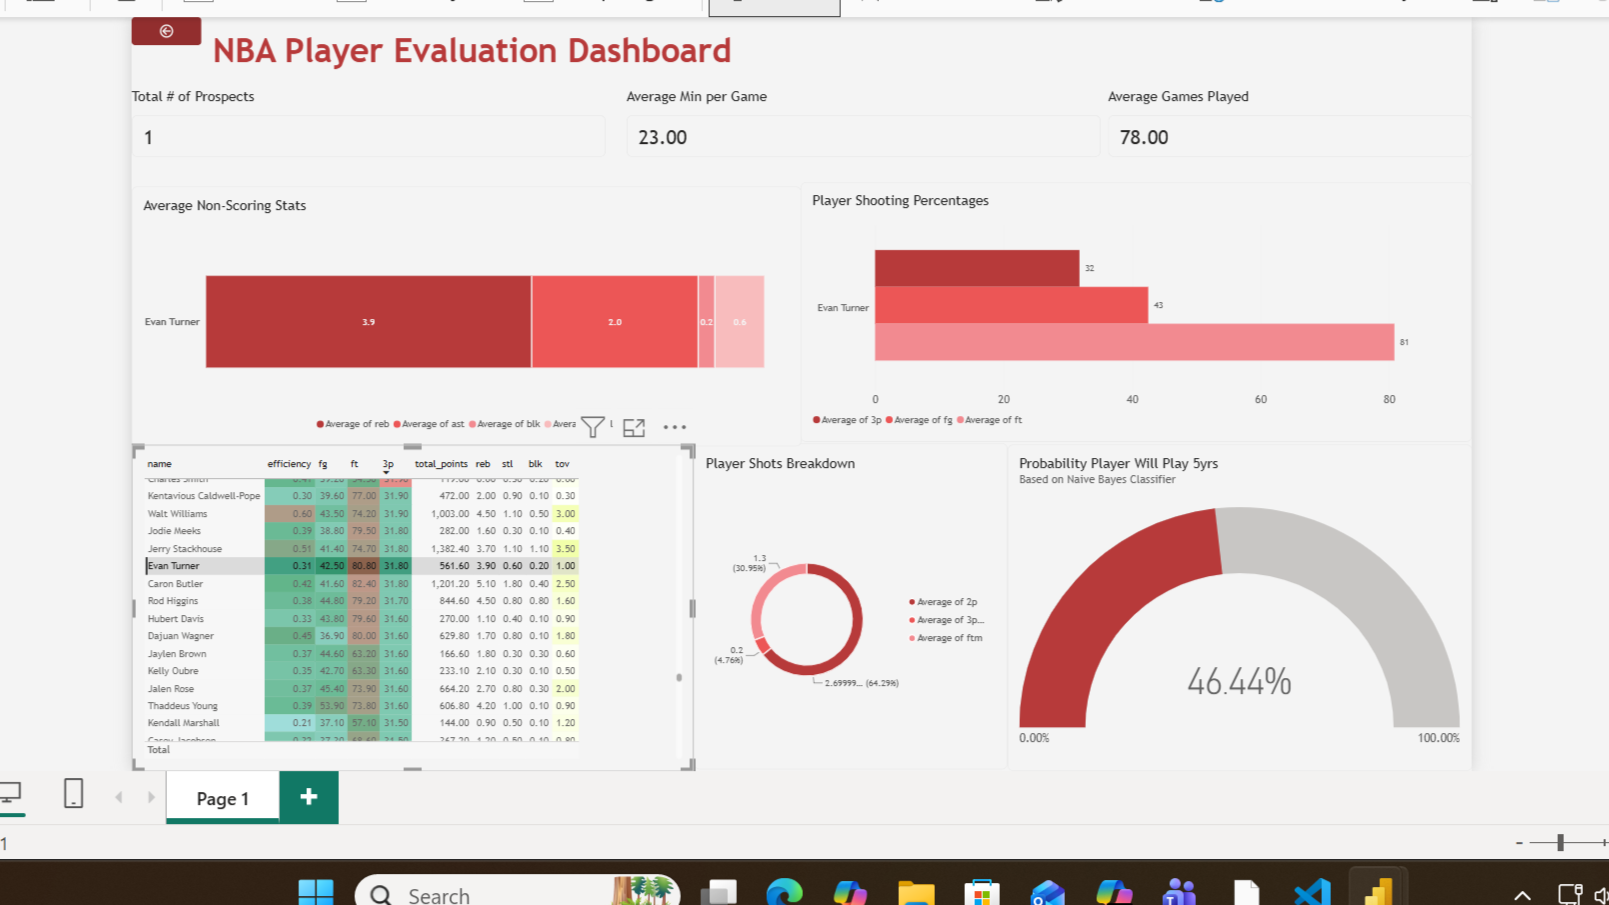

This screenshot's page, from the dashboard's own definition file:
{"tool":"powerbi","page":{"name":"Page 1","canvas":[1920,1080],"ordinal":0},"visuals":[{"type":"donutChart","title":"Player Shots Breakdown","fields":{"Y":["Avg(nba-players.2p)","Avg(nba-players.3p_made)","Avg(nba-players.ftm)"]},"box":[806.7,609.5,448.6,467],"z":0},{"type":"cardVisual","title":"Total # of Prospects","fields":{"Data":["extracted_nba_players_data.Total Players"]},"box":[0,100.2,680,100.2],"z":1000},{"type":"cardVisual","title":"Average Min per Game","fields":{"Data":["Avg(nba-players.min)"]},"box":[708.6,100.2,680,100.2],"z":2000},{"type":"cardVisual","title":"Average Games Played","fields":{"Data":["Avg(nba-players.gp)"]},"box":[1398.1,100.2,522.5,100.2],"z":3000},{"type":"barChart","title":"Average Non-Scoring Stats","fields":{"Category":["nba-players.name"],"Y":["Avg(extracted_nba_players_data.reb)","Avg(extracted_nba_players_data.ast)","Avg(extracted_nba_players_data.blk)","Avg(extracted_nba_players_data.stl)"]},"box":[0,242,959.1,372.2],"z":4000},{"type":"clusteredBarChart","title":"Player Shooting Percentages","fields":{"Category":["nba-players.name"],"Y":["Avg(nba-players.3p)","Avg(nba-players.fg)","Avg(nba-players.ft)"]},"box":[959.1,236.2,961.5,372.2],"z":5000},{"type":"gauge","title":"Probability Player Will Play 5yrs","fields":{"MaxValue":["Avg(extracted_nba_players_data_with_probabilities (2).Custom)"],"Y":["Avg(extracted_nba_players_data_with_probabilities (2).prob_predicted)"]},"box":[1255,613,665,467],"z":6000},{"type":"tableEx","fields":{"Values":["nba-players.name","extracted_nba_players_data.efficiency","extracted_nba_players_data.fg","extracted_nba_players_data.ft","extracted_nba_players_data.3p","extracted_nba_players_data.total_points","extracted_nba_players_data.reb","extracted_nba_players_data.stl","extracted_nba_players_data.blk","extracted_nba_players_data.tov"]},"box":[0,613,806,467],"z":7000},{"type":"actionButton","box":[0,0,100,40],"z":8000},{"type":"textbox","box":[116.9,19.1,842.2,81.1],"z":8001}]}

Visuals, with their boxes on the page's 1920x1080 design canvas (x1, y1, x2, y2). These are canvas units, not pixel positions in the 1609x905 screenshot, which may show the page scaled, cropped or inside an application window:
"Player Shots Breakdown" donutChart: pyautogui.locateOnScreen(807, 610, 1255, 1076)
"Total # of Prospects" cardVisual: pyautogui.locateOnScreen(0, 100, 680, 200)
"Average Min per Game" cardVisual: pyautogui.locateOnScreen(709, 100, 1389, 200)
"Average Games Played" cardVisual: pyautogui.locateOnScreen(1398, 100, 1921, 200)
"Average Non-Scoring Stats" barChart: pyautogui.locateOnScreen(0, 242, 959, 614)
"Player Shooting Percentages" clusteredBarChart: pyautogui.locateOnScreen(959, 236, 1921, 608)
"Probability Player Will Play 5yrs" gauge: pyautogui.locateOnScreen(1255, 613, 1920, 1080)
tableEx - nba-players.name x extracted_nba_players_data.efficiency: pyautogui.locateOnScreen(0, 613, 806, 1080)
actionButton: pyautogui.locateOnScreen(0, 0, 100, 40)
textbox: pyautogui.locateOnScreen(117, 19, 959, 100)
